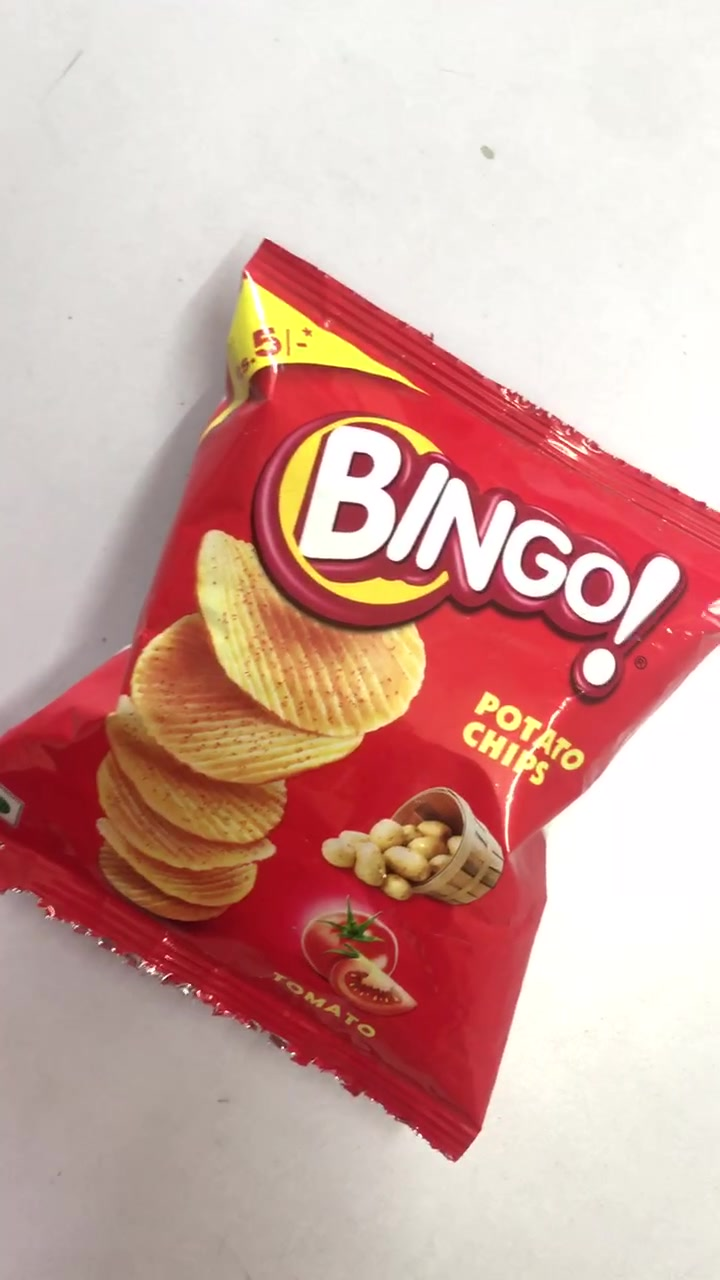Bingo: (5, 245, 720, 1153)
